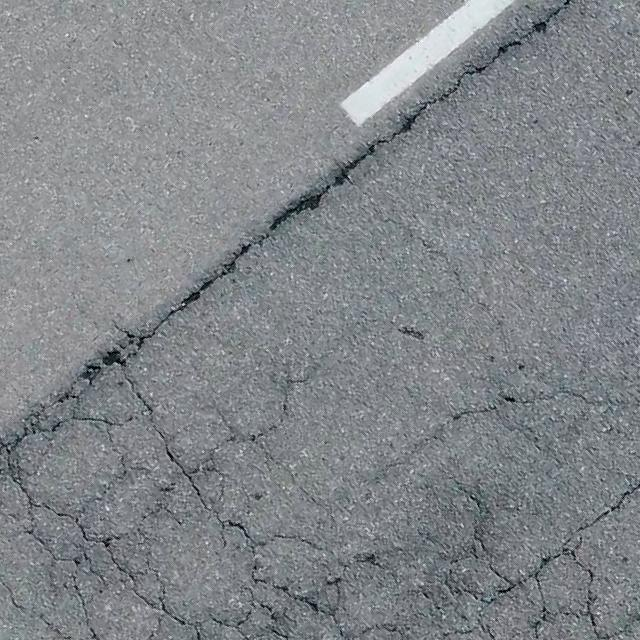GRIETA: (0, 0, 573, 461)
PIEL DE COCODRILO: (0, 295, 639, 639)
